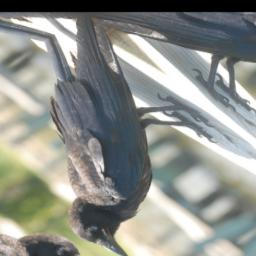Crow: (0, 14, 256, 256)
